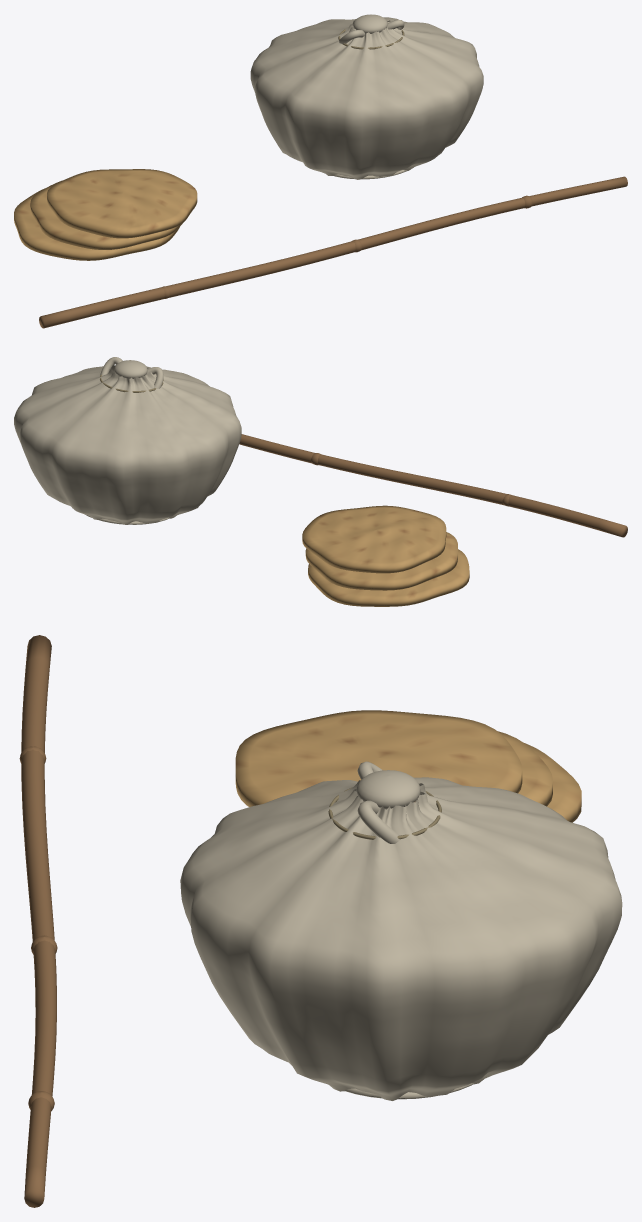
The model's file is passover-kit.glb.
The picture shows the model from 3 angles, top to bottom: view 1: azimuth 30°, elevation 25°; view 2: azimuth 150°, elevation 25°; view 3: azimuth 270°, elevation 25°; orthographic projection. The views are drawn at different scales.
Visible parts, largest first — view 1: passover-kit-exodus-wrapping-cloth, passover-kit-exodus-flat-bread, passover-kit-exodus-unspecified-wood.001; view 2: passover-kit-exodus-wrapping-cloth, passover-kit-exodus-flat-bread, passover-kit-exodus-unspecified-wood.001; view 3: passover-kit-exodus-wrapping-cloth, passover-kit-exodus-flat-bread, passover-kit-exodus-unspecified-wood.001.
Boxes of the visible parts, box(x1,y1,x2,y2) form: passover-kit-exodus-wrapping-cloth: box(250, 14, 483, 179); passover-kit-exodus-flat-bread: box(14, 169, 197, 260); passover-kit-exodus-unspecified-wood.001: box(39, 176, 627, 328); passover-kit-exodus-wrapping-cloth: box(14, 357, 241, 524); passover-kit-exodus-flat-bread: box(302, 505, 469, 606); passover-kit-exodus-unspecified-wood.001: box(239, 434, 627, 537); passover-kit-exodus-wrapping-cloth: box(180, 761, 622, 1100); passover-kit-exodus-flat-bread: box(235, 710, 581, 822); passover-kit-exodus-unspecified-wood.001: box(19, 635, 57, 1207).
Bounding box in the file's own units: 1.18 × 0.283 × 0.5423.
